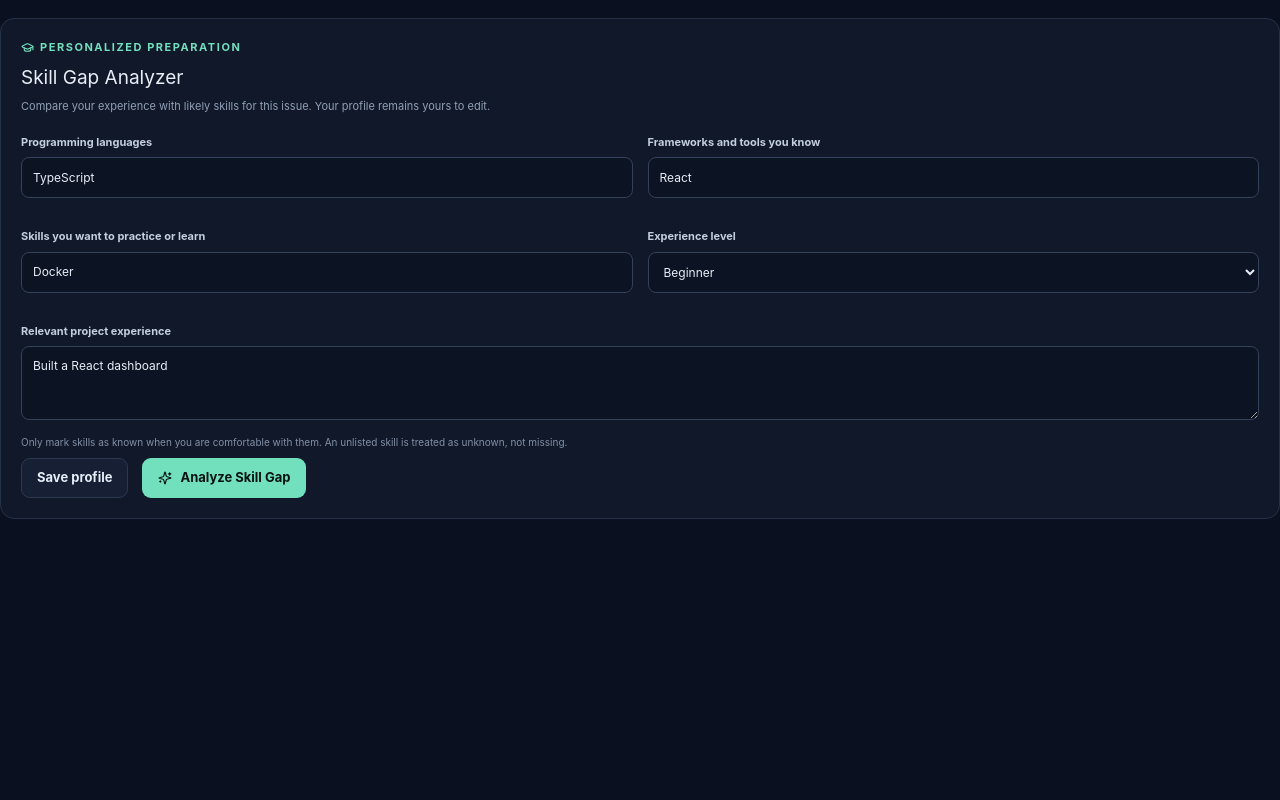
it: Skill Gap Analyzer › reuses and updates the profile, then displays statuses, uncertainty, learning tasks, and difficulty
Check: the field labelled "Programming languages" holds "TypeScript", box left=21, top=157, right=632, bottom=198
Replace the text in the field labelled "Frameworks and tools you know" with "React, Vitest": point(953, 178) left=648, top=157, right=1259, bottom=198
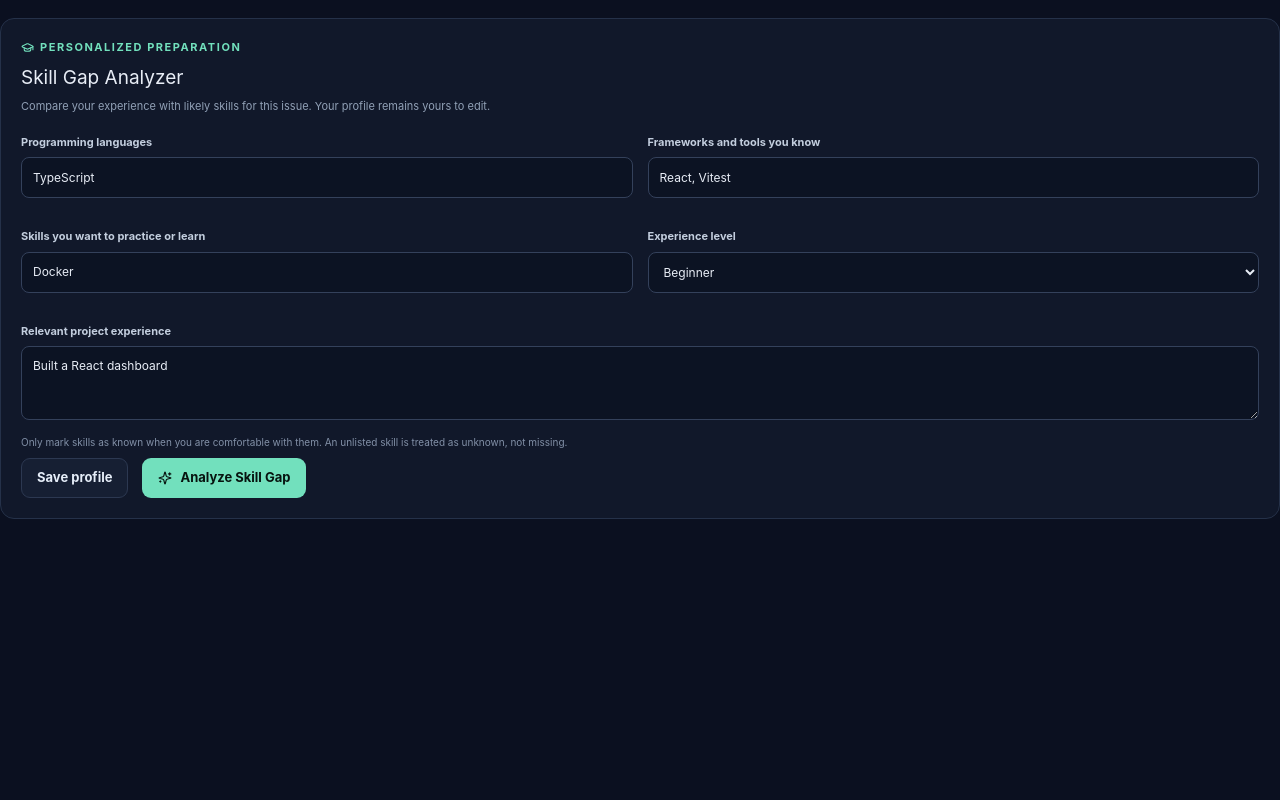
Replace the text in the text box labelled "Relevant project experience" with "Built an accessible React menu": point(640, 383) left=21, top=346, right=1259, bottom=420
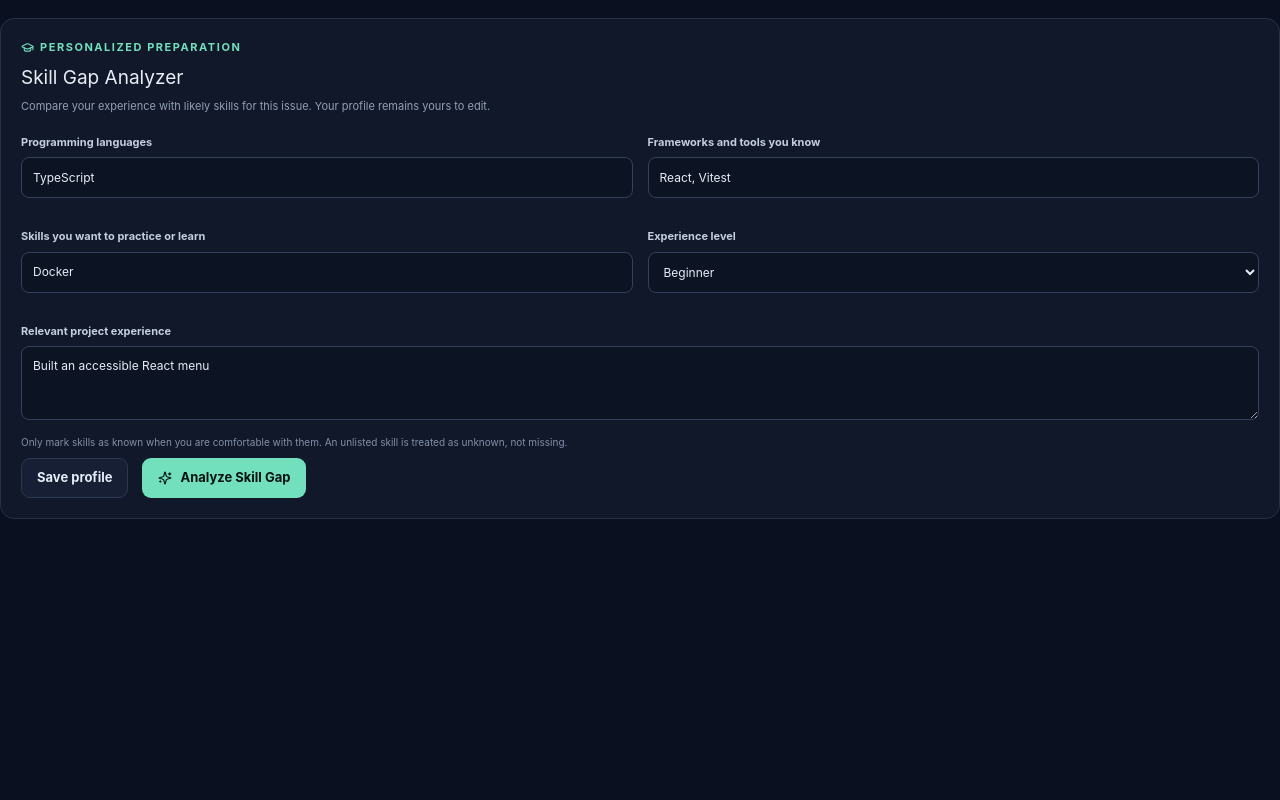
Click the button "Analyze Skill Gap": point(224, 478) left=142, top=458, right=306, bottom=498
(page scrolled)
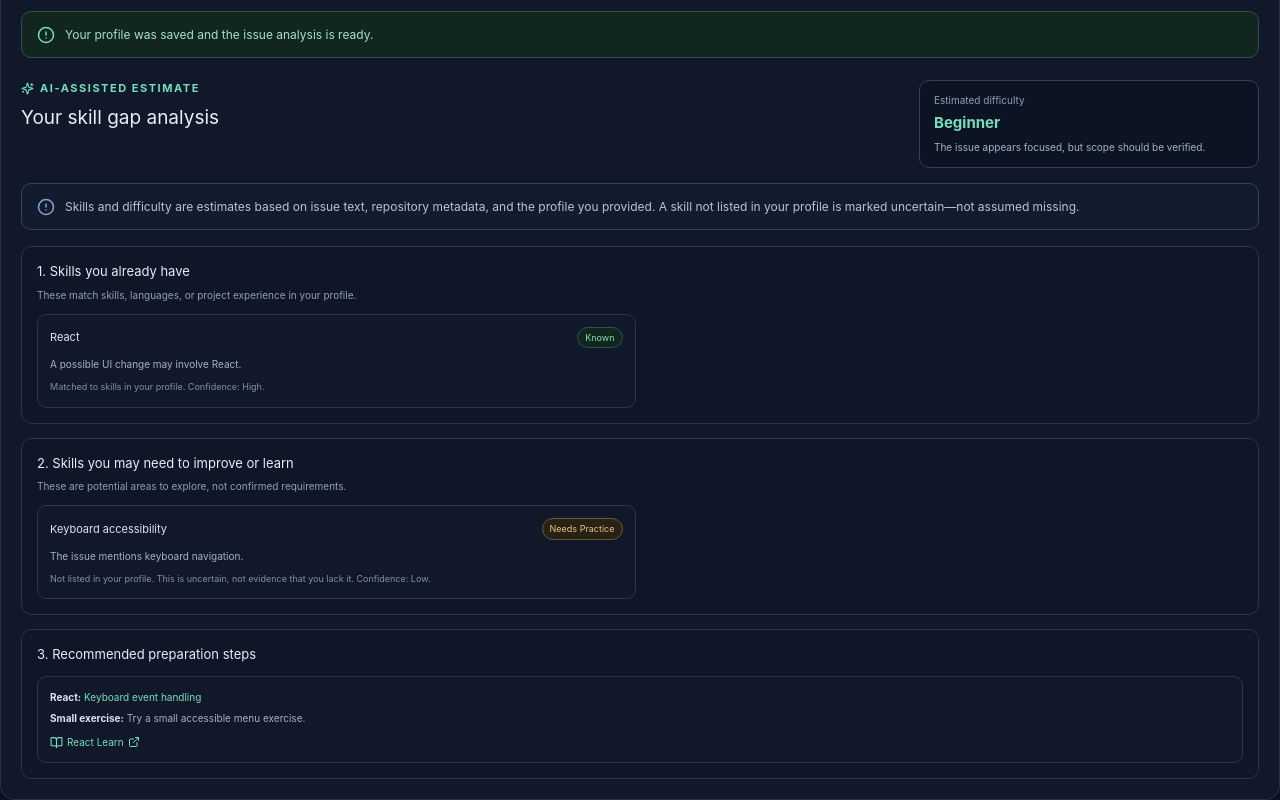
Check: the heading "Your skill gap analysis" is shown, box left=21, top=104, right=219, bottom=132
Check: the heading "Keyboard accessibility" is shown, box left=50, top=521, right=167, bottom=537
Check: the text "Needs Practice" is shown, box left=542, top=518, right=622, bottom=540
